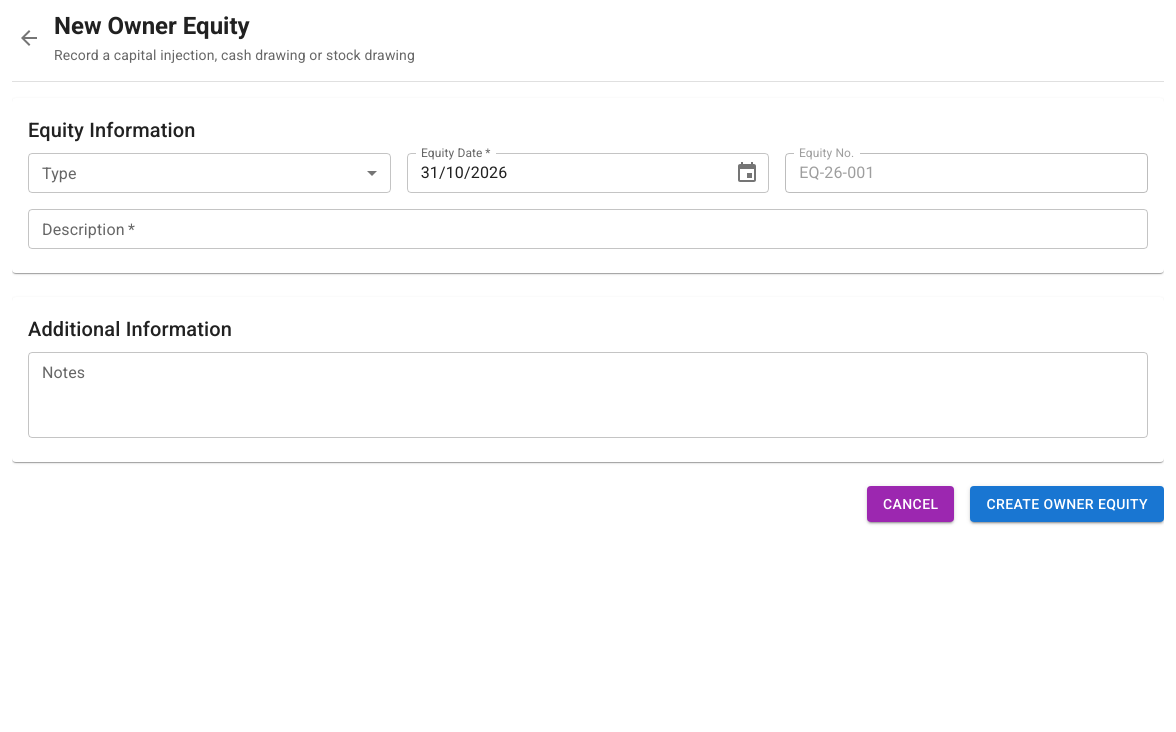
Test case: OwnerEquityFormPage › shows Product and Quantity for a stock drawing, and no amount
Press the mouse on the dropdown named "Type" at (209, 173), box left=28, top=153, right=391, bottom=193
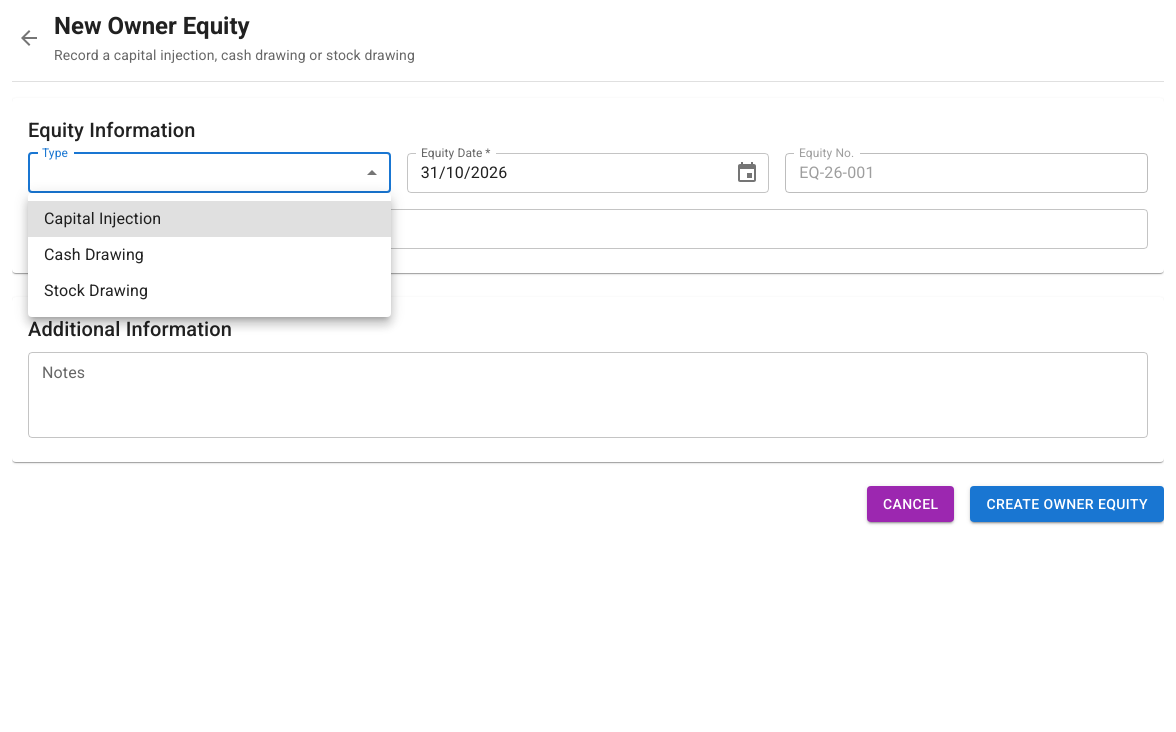
Click the option "Stock Drawing". click: (96, 290)
box: left=44, top=281, right=148, bottom=300
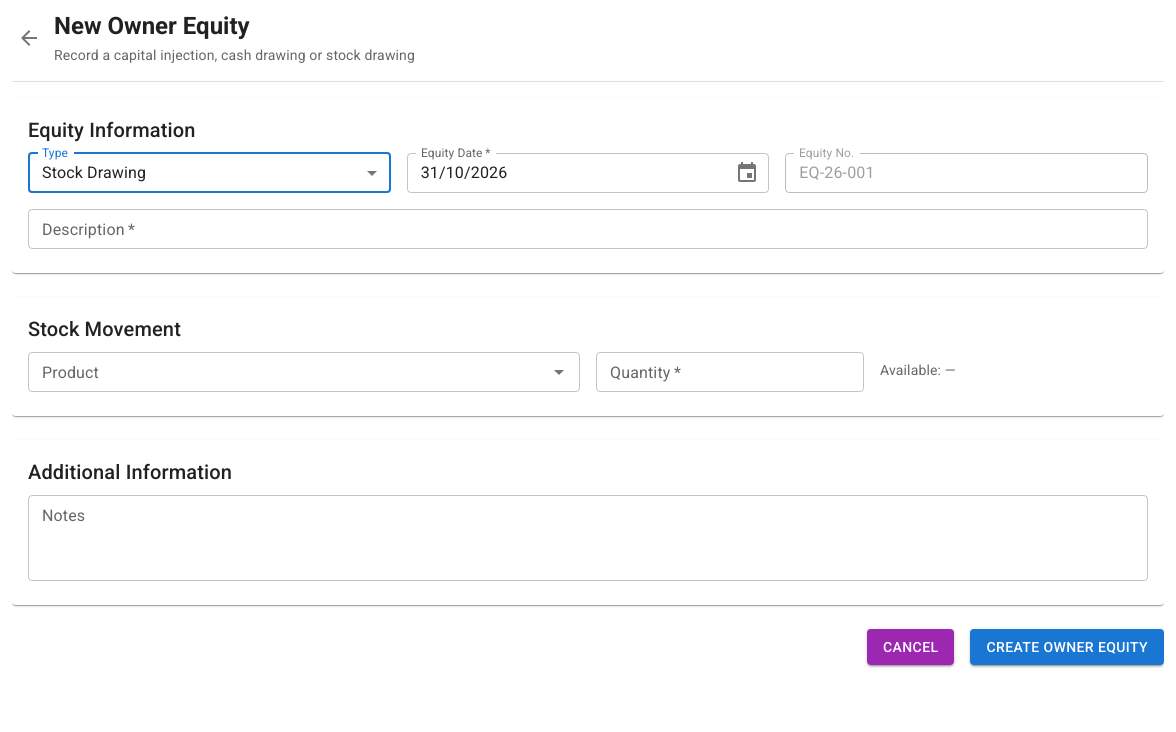
Check: the dropdown labelled "Product" is shown, box left=34, top=358, right=541, bottom=386
